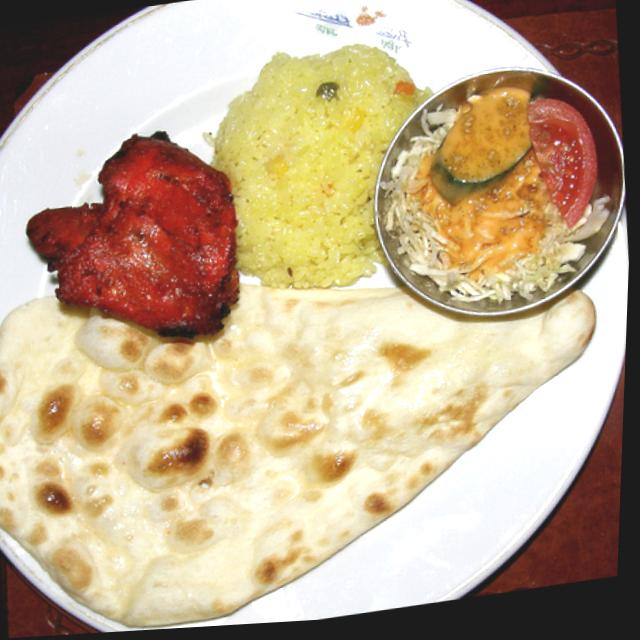蔬菜料理: (359, 53, 638, 340)
鸡肉料理 含炸鸡: (11, 114, 256, 360)
